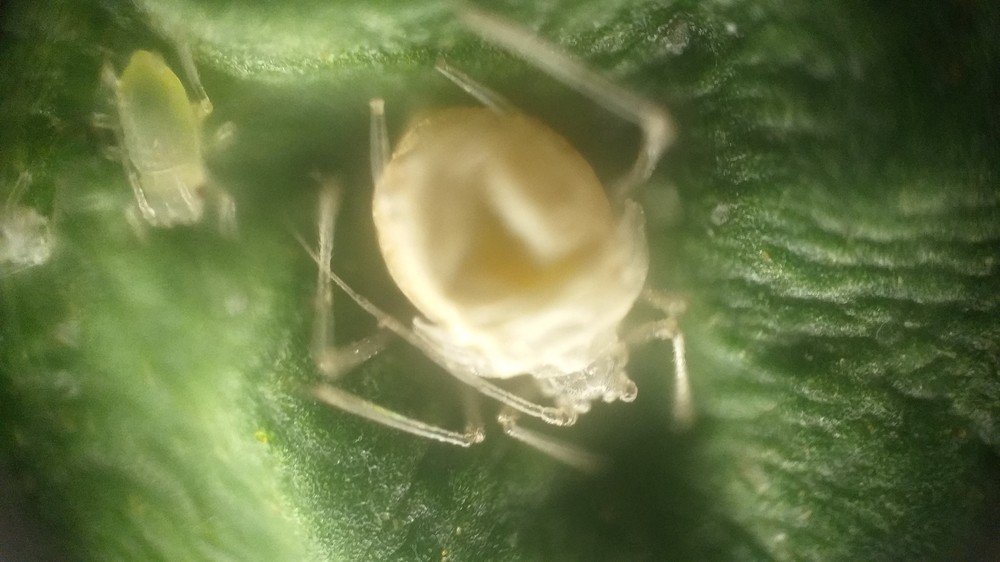Pulgon: (280, 37, 746, 495), (75, 29, 268, 273)
